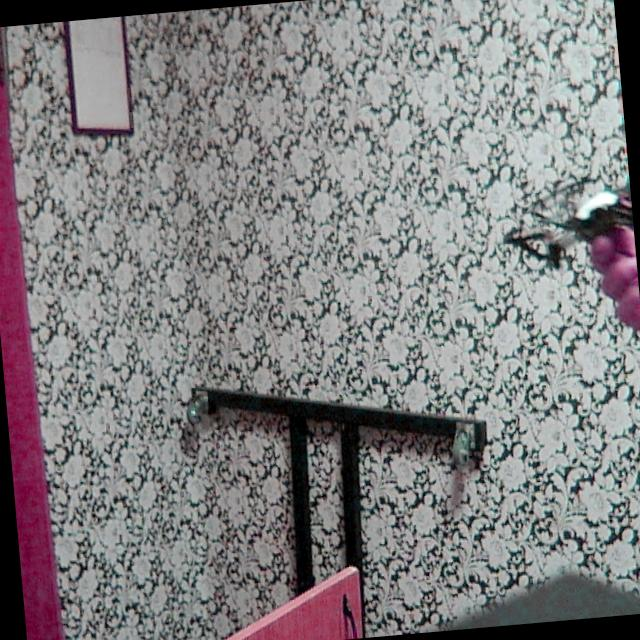drone: (496, 152, 638, 288)
